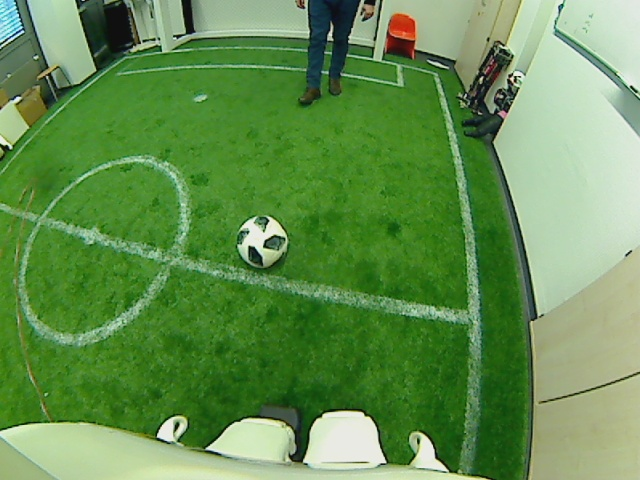ball: (233, 212, 288, 270)
